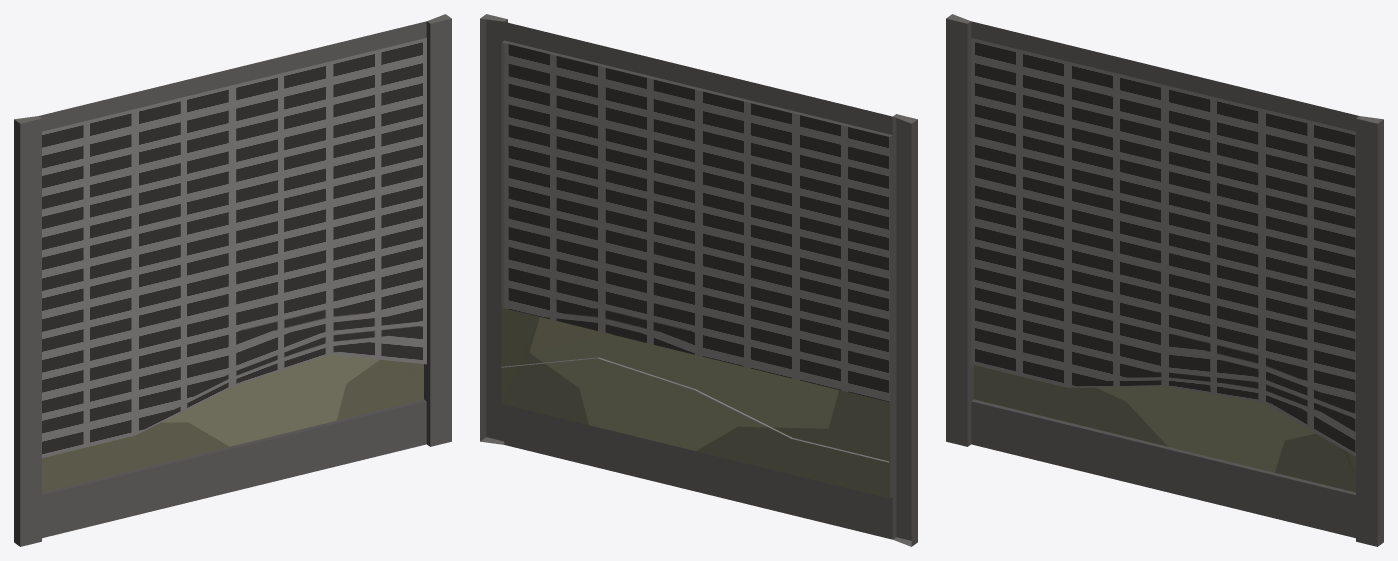
Rendered from AI_Env_StoreFront_Window_01.fbx.
3 renders of one model, left to right at view 1: azimuth 30°, elevation 25°; view 2: azimuth 150°, elevation 25°; view 3: azimuth 330°, elevation 25°, orthographic.
Visible parts, largest first — view 1: AI_Env_StoreFront_Window_01; view 2: AI_Env_StoreFront_Window_01; view 3: AI_Env_StoreFront_Window_01.
Part boxes in pixels (bbox=[...]): AI_Env_StoreFront_Window_01: bbox=[14, 14, 451, 546]; AI_Env_StoreFront_Window_01: bbox=[480, 14, 917, 546]; AI_Env_StoreFront_Window_01: bbox=[946, 14, 1383, 546].
Bounding box in the file's own units: 5 × 4.69 × 0.1514.
